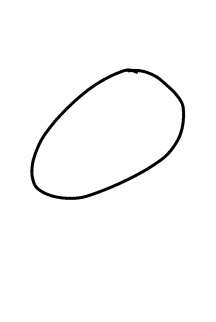Circle: (27, 67, 189, 204)
